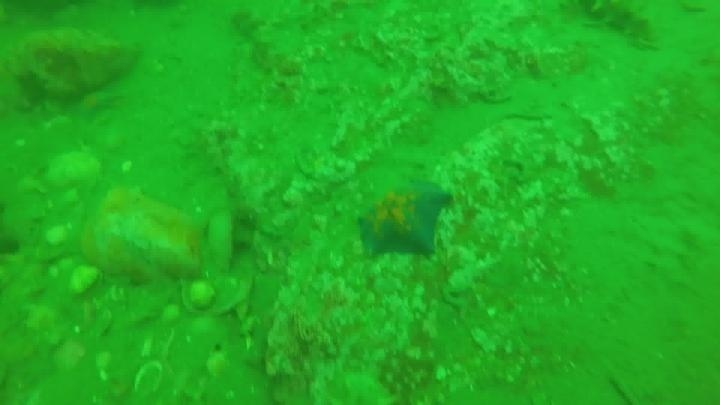holothurian: (584, 1, 662, 51)
starfish: (354, 178, 454, 261), (69, 87, 123, 125)
